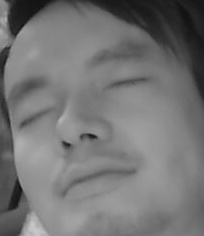blink: (18, 105, 56, 130), (105, 73, 145, 92)
mouth: (57, 153, 136, 204)
